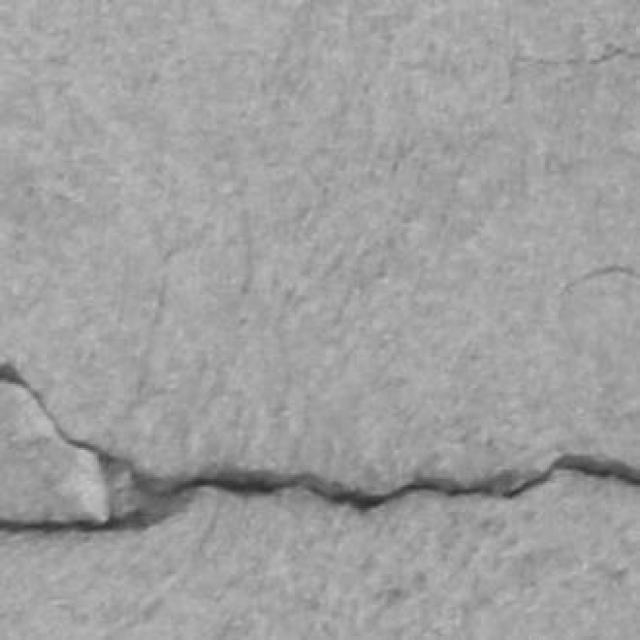crack: (0, 365, 639, 533)
